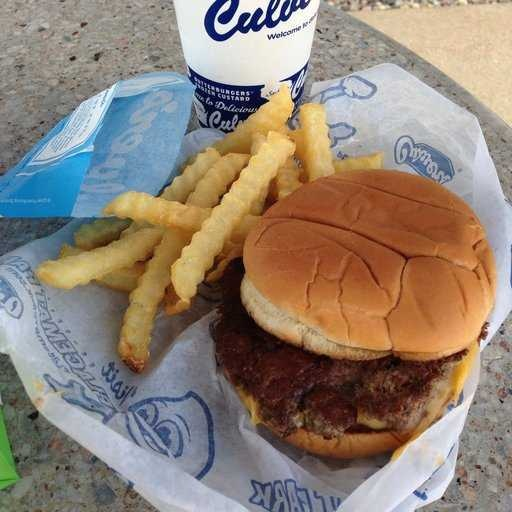hamburger: (203, 152, 472, 453)
